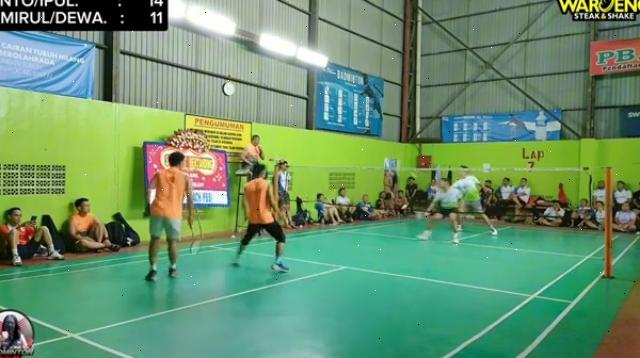Shuttlecock: (387, 162, 393, 170)
